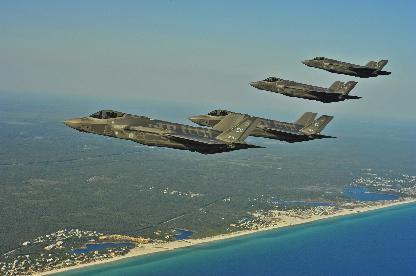F22: (60, 109, 266, 153), (187, 108, 337, 142), (247, 76, 361, 102), (299, 56, 391, 77)
